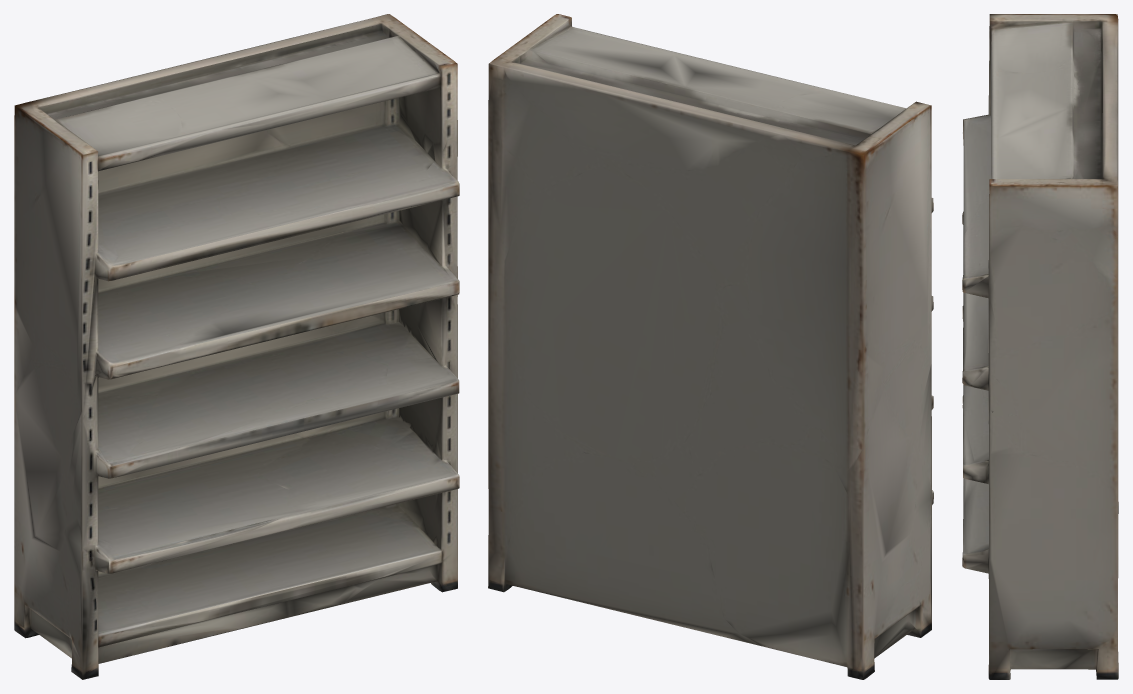
The model's file is EstanteriaComercial.glb.
3 renders of one model, left to right at view 1: azimuth 30°, elevation 25°; view 2: azimuth 150°, elevation 25°; view 3: azimuth 270°, elevation 25°, orthographic. The views are drawn at different scales.
Visible parts, largest first — view 1: node_0; view 2: node_0; view 3: node_0.
Boxes of the visible parts, bbox=[...] form: node_0: bbox=[14, 14, 459, 679]; node_0: bbox=[488, 14, 933, 679]; node_0: bbox=[962, 14, 1118, 679].
Bounding box in the file's own units: 0.703 × 0.9371 × 0.269.
Materials: 1 (1 with a texture image).
